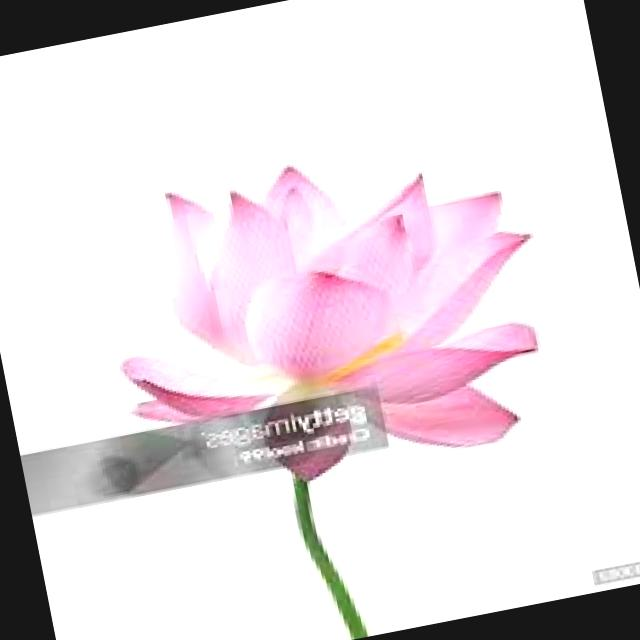lotus: (74, 70, 569, 428)
